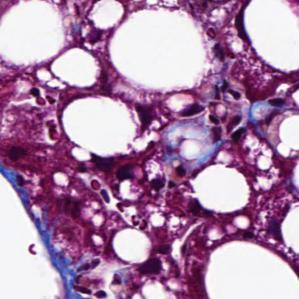inflammation: (177, 97, 248, 135), (0, 137, 51, 180)
